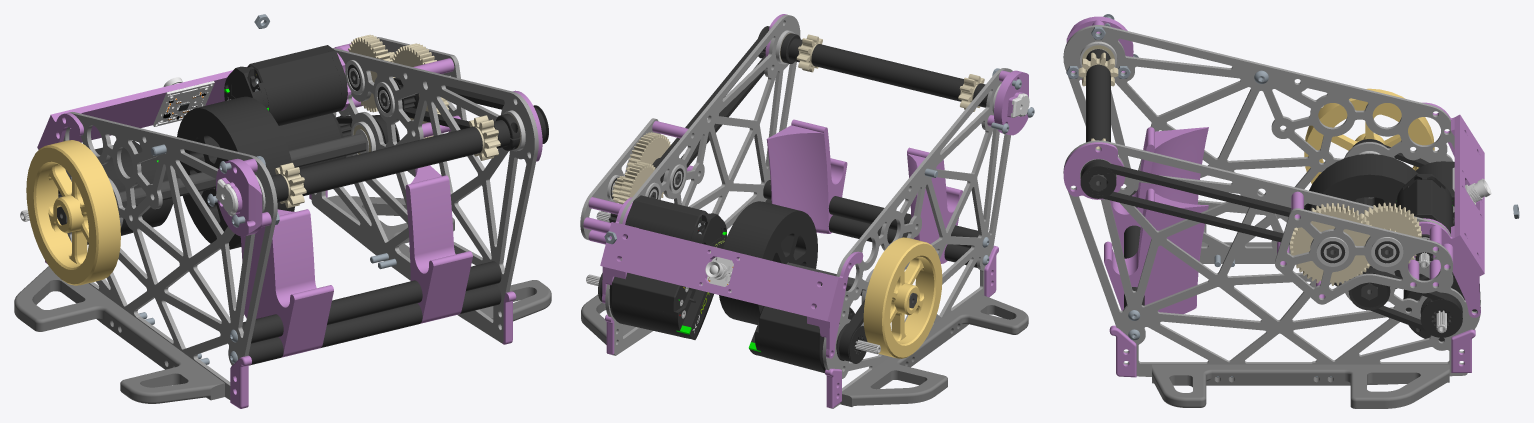
3 renders of one model, left to right at view 1: azimuth 30°, elevation 25°; view 2: azimuth 150°, elevation 25°; view 3: azimuth 270°, elevation 25°, orthographic. The views are drawn at different scales.
Visible parts, largest first — view 1: 110-001 Shooter Stationary Plate (×2), 4" Brass Flywheel (1/2" Triangle Bore), 110-021L E-Chain Spacer, 110-003.5 Left Fuel Guide, 110-003 3DP Right Fuel Guide, 3/8" Hex Shaft Spacer (1" L, 5/8" OD, Acetal) (×10), 4" Solid Urethane Wheel (45A, 1.5" Wide, 1/2" Hex Bore), Kraken X44 Brushless Motor, 1/2" Hex Shaft Spacer (1" L, 3/4" OD, Acetal) (×5), 110-005 Camera Mount Left, 110-007 1/2" Rounded Hex (REV) (10 in), 110-021R E-Chain Spacer (+13 smaller); view 2: 110-001 Shooter Stationary Plate (×2), 110-005 Camera Mount Left, 4" Brass Flywheel (1/2" Triangle Bore), 110-021L E-Chain Spacer, 110-003 3DP Right Fuel Guide, 4" Solid Urethane Wheel (45A, 1.5" Wide, 1/2" Hex Bore), Kraken X60 Brushless Motor, Kraken X60 Brushless Motor-Mirrored, Kraken X44 Brushless Motor, 1/2" Hex Shaft Spacer (1" L, 3/4" OD, Acetal) (×5), 110-003.5 Left Fuel Guide, 110-004 CANcoder Mount (+11 smaller); view 3: 110-001 Shooter Stationary Plate (×2), 110-021R E-Chain Spacer, 110-011 Hood Gearbox Plate, 110-005 Camera Mount Left, 110-003 3DP Right Fuel Guide, 4" Solid Urethane Wheel (45A, 1.5" Wide, 1/2" Hex Bore), 90T 5M 9mm Wide Belt, 110-003.5 Left Fuel Guide, 4" Brass Flywheel (1/2" Triangle Bore), 50t Aluminum Spur Gear (20 DP, 3/8" Hex Bore), Kraken X44 Brushless Motor, 110-018 Custom Bearing Hat (+12 smaller).
Part boxes in pixels (<box>): 110-001 Shooter Stationary Plate (×2): <box>63,48,538,399</box>; 4" Brass Flywheel (1/2" Triangle Bore): <box>26,140,120,285</box>; 110-021L E-Chain Spacer: <box>14,266,224,403</box>; 110-003.5 Left Fuel Guide: <box>240,209,333,357</box>; 110-003 3DP Right Fuel Guide: <box>405,165,472,323</box>; 3/8" Hex Shaft Spacer (1" L, 5/8" OD, Acetal) (×10): <box>245,263,493,365</box>; 4" Solid Urethane Wheel (45A, 1.5" Wide, 1/2" Hex Bore): <box>177,96,294,249</box>; Kraken X44 Brushless Motor: <box>224,45,347,125</box>; 1/2" Hex Shaft Spacer (1" L, 3/4" OD, Acetal) (×5): <box>299,132,461,195</box>; 110-005 Camera Mount Left: <box>37,47,344,149</box>; 110-007 1/2" Rounded Hex (REV) (10 in): <box>57,133,366,224</box>; 110-021R E-Chain Spacer: <box>327,195,551,321</box>; 110-001 Shooter Stationary Plate (×2): <box>605,14,1012,408</box>; 110-005 Camera Mount Left: <box>600,197,863,358</box>; 4" Brass Flywheel (1/2" Triangle Bore): <box>863,237,942,358</box>; 110-021L E-Chain Spacer: <box>840,293,1028,406</box>; 110-003 3DP Right Fuel Guide: <box>766,119,847,233</box>; 4" Solid Urethane Wheel (45A, 1.5" Wide, 1/2" Hex Bore): <box>719,201,817,324</box>; Kraken X60 Brushless Motor: <box>586,272,713,339</box>; Kraken X60 Brushless Motor-Mirrored: <box>748,305,880,373</box>; Kraken X44 Brushless Motor: <box>596,195,726,248</box>; 1/2" Hex Shaft Spacer (1" L, 3/4" OD, Acetal) (×5): <box>828,48,963,101</box>; 110-003.5 Left Fuel Guide: <box>907,147,962,263</box>; 110-004 CANcoder Mount: <box>987,70,1028,135</box>; 110-001 Shooter Stationary Plate (×2): <box>1063,25,1480,376</box>; 110-021R E-Chain Spacer: <box>1152,364,1449,408</box>; 110-011 Hood Gearbox Plate: <box>1275,208,1452,304</box>; 110-005 Camera Mount Left: <box>1419,102,1484,317</box>; 110-003 3DP Right Fuel Guide: <box>1104,188,1208,314</box>; 4" Solid Urethane Wheel (45A, 1.5" Wide, 1/2" Hex Bore): <box>1304,154,1418,288</box>; 90T 5M 9mm Wide Belt: <box>1081,161,1291,244</box>; 110-003.5 Left Fuel Guide: <box>1110,127,1208,254</box>; 4" Brass Flywheel (1/2" Triangle Bore): <box>1304,88,1434,183</box>; 50t Aluminum Spur Gear (20 DP, 3/8" Hex Bore): <box>1290,203,1371,285</box>; Kraken X44 Brushless Motor: <box>1396,174,1452,268</box>; 110-018 Custom Bearing Hat: <box>1063,142,1125,199</box>.
Bounding box in the file's own units: 0.338 × 0.2018 × 0.3513.
